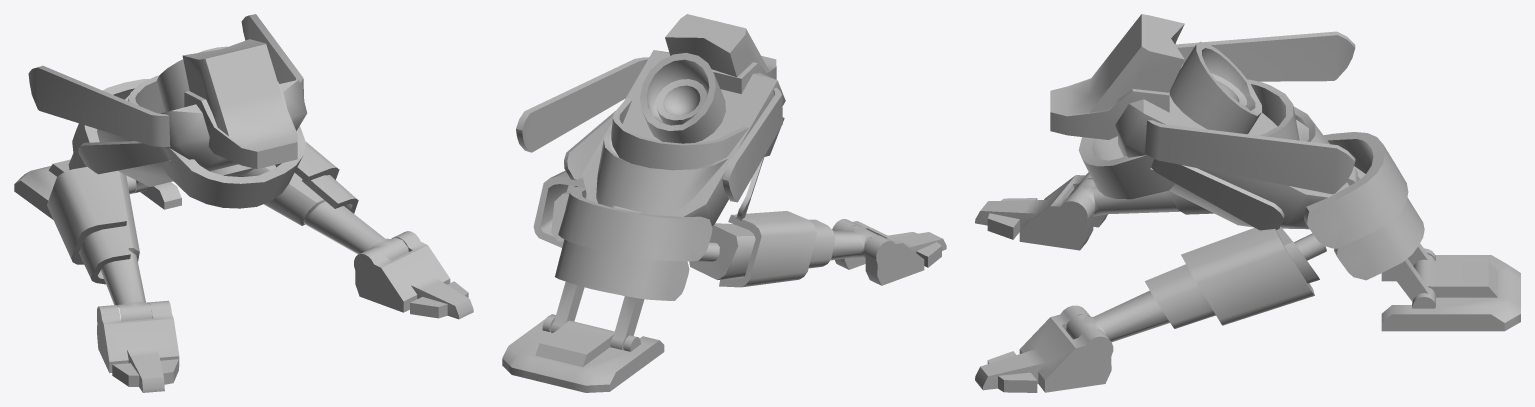
File: cannon_legs_separate.glb
The picture shows the model from 3 angles, left to right: view 1: azimuth 30°, elevation 25°; view 2: azimuth 150°, elevation 25°; view 3: azimuth 270°, elevation 25°; orthographic projection. The views are drawn at different scales.
Visible parts, largest first — view 1: cannon_main_legs; view 2: cannon_main_legs; view 3: cannon_main_legs.
Boxes of the visible parts, x1,y1,x2,y2 form: cannon_main_legs: [14, 14, 473, 392]; cannon_main_legs: [502, 14, 946, 392]; cannon_main_legs: [975, 14, 1520, 392].
Bounding box in the file's own units: 967 × 671 × 1221.
1 material, 1 textured.
